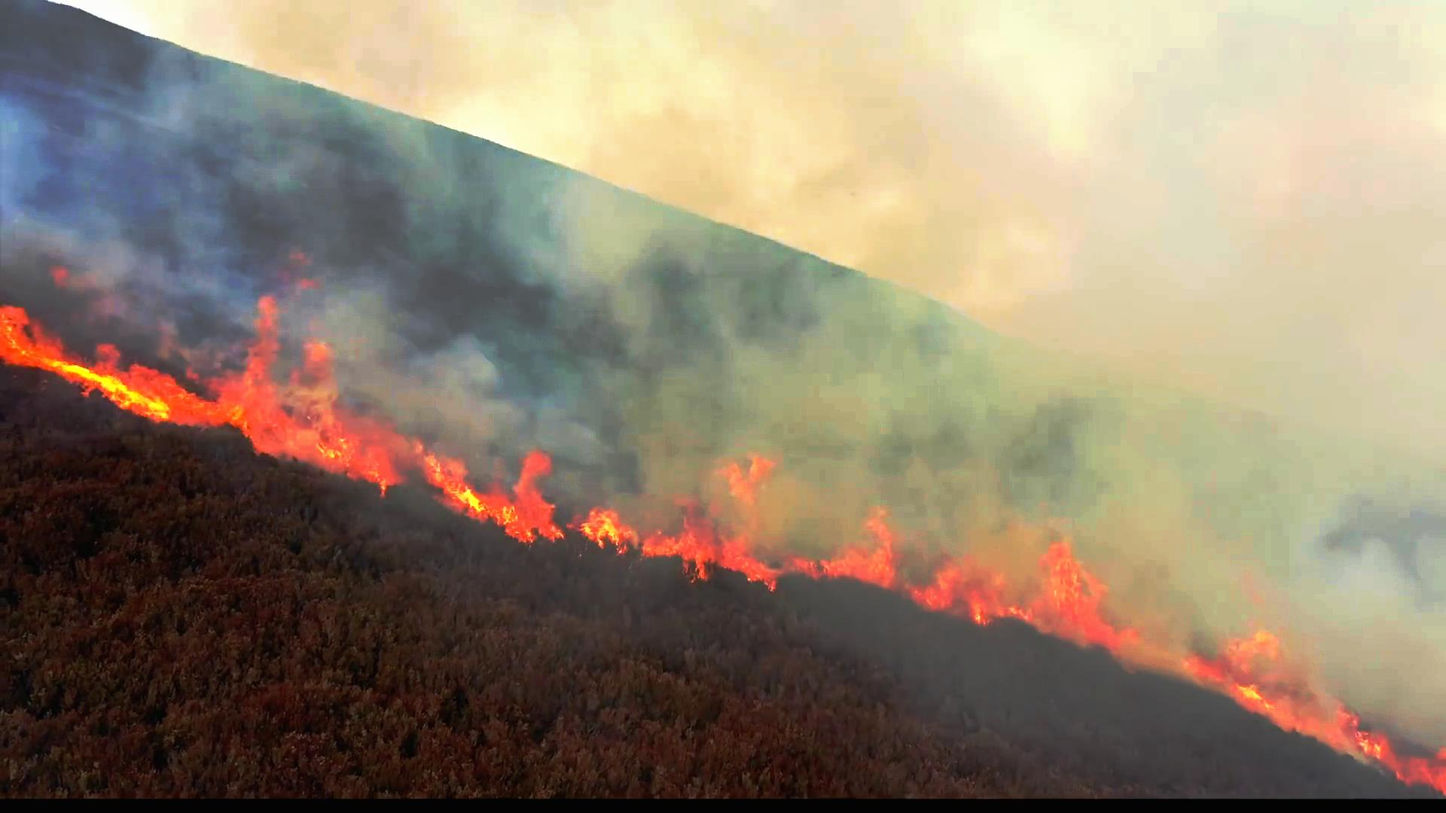fire: (0, 303, 252, 434), (427, 444, 567, 547), (1047, 540, 1136, 664)
smoke: (374, 84, 878, 433), (1197, 329, 1446, 601)
